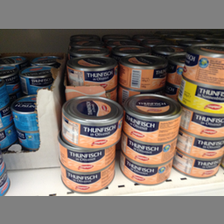fish: (61, 95, 124, 149), (123, 93, 182, 142), (174, 75, 224, 120), (57, 136, 116, 173), (64, 54, 118, 93), (118, 131, 177, 165), (182, 43, 223, 88), (116, 154, 176, 184), (171, 148, 224, 180), (120, 56, 168, 90), (179, 105, 224, 138)
